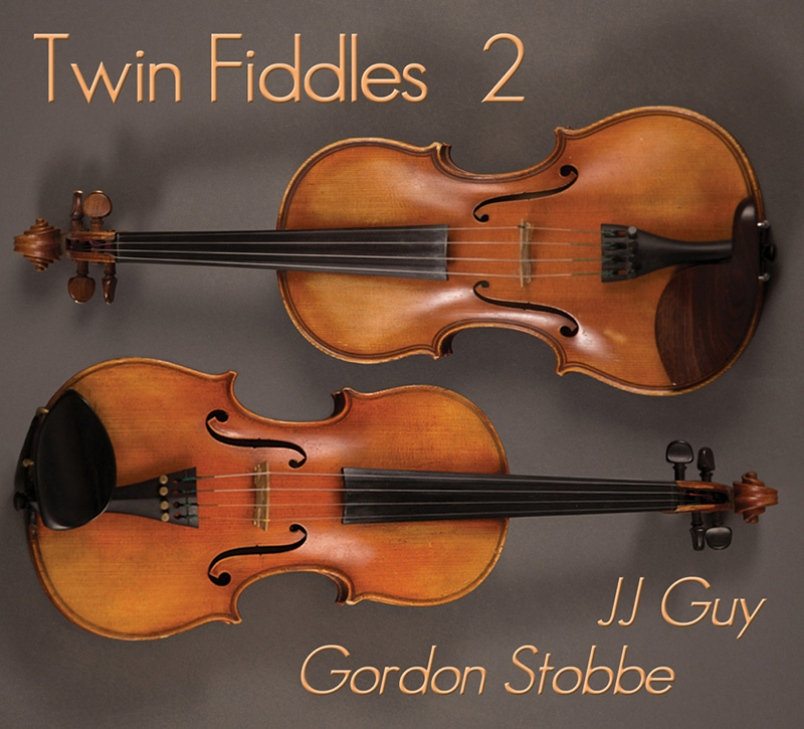Fiddle: (22, 120, 793, 352), (27, 360, 792, 581)
